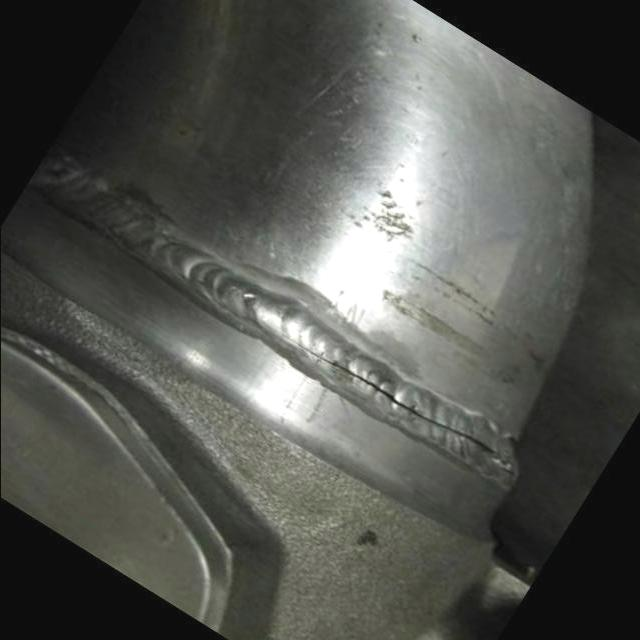defect: (273, 329, 514, 469)
